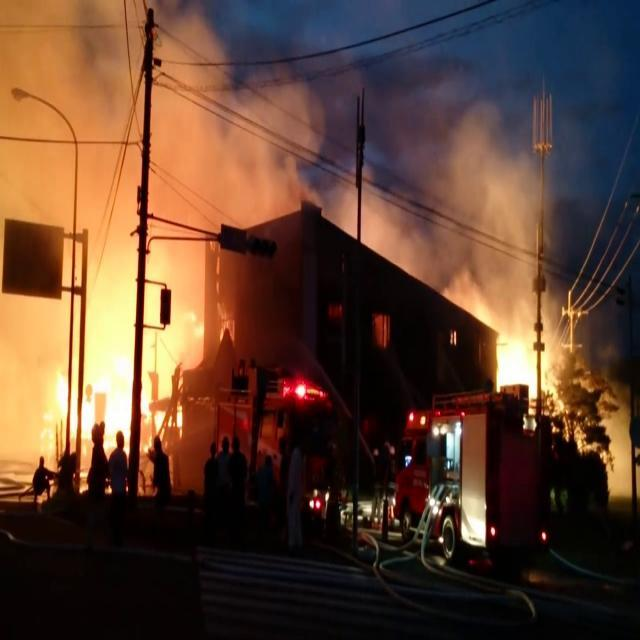Fire: (2, 7, 616, 429), (42, 352, 133, 445), (496, 336, 547, 398)
